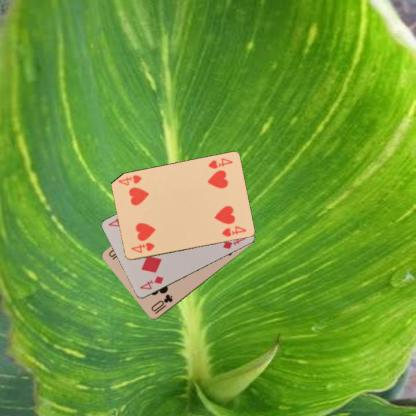10c: (148, 292, 174, 315)
4d: (137, 274, 165, 291)
4h: (205, 156, 234, 170), (128, 240, 156, 254)
